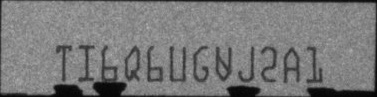1: (304, 42, 324, 83)
2: (259, 44, 278, 82)
6: (145, 44, 164, 82), (100, 43, 118, 82)
A: (282, 45, 301, 84)
G: (192, 43, 210, 82)
I: (77, 41, 94, 81)
J: (237, 44, 256, 82)
Q: (124, 44, 142, 82)
T: (55, 44, 71, 81)
U: (169, 44, 186, 82)
V: (214, 43, 234, 81)
